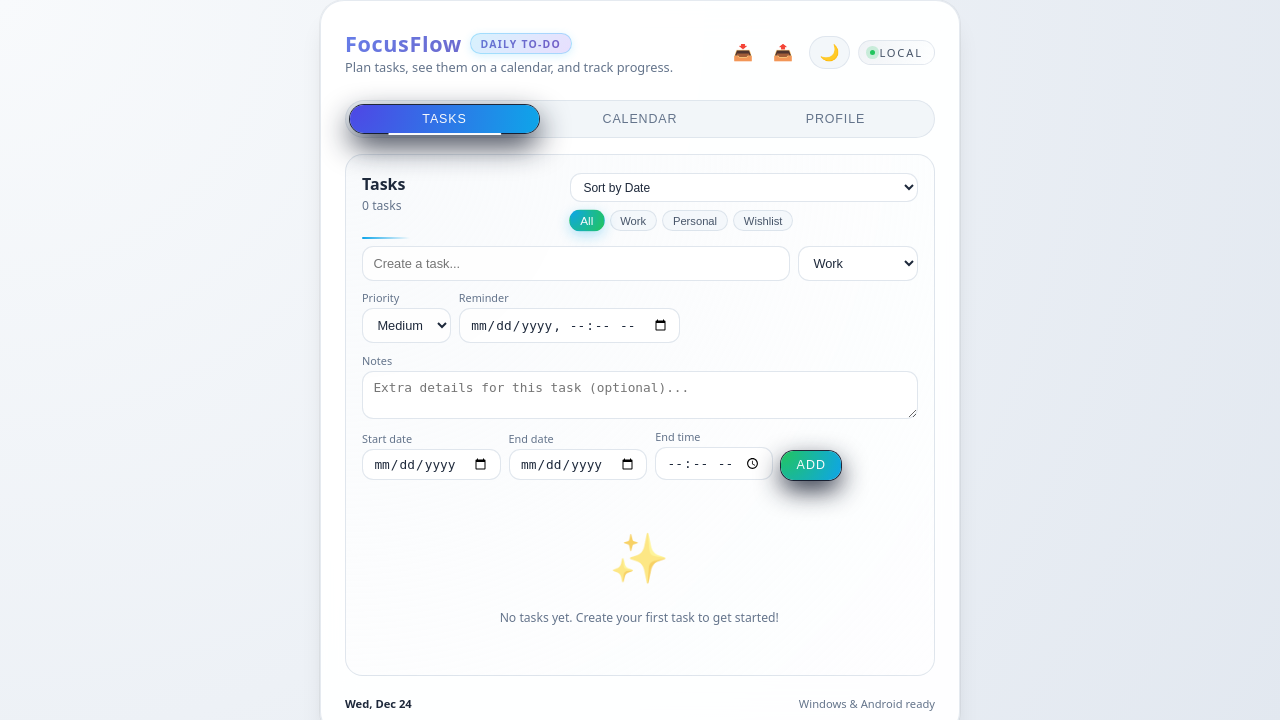
it: App › filters tasks by category
Type "Work Task" into the field with placeholder "Create a task..." at x=576, y=263, box [362,246,790,281]
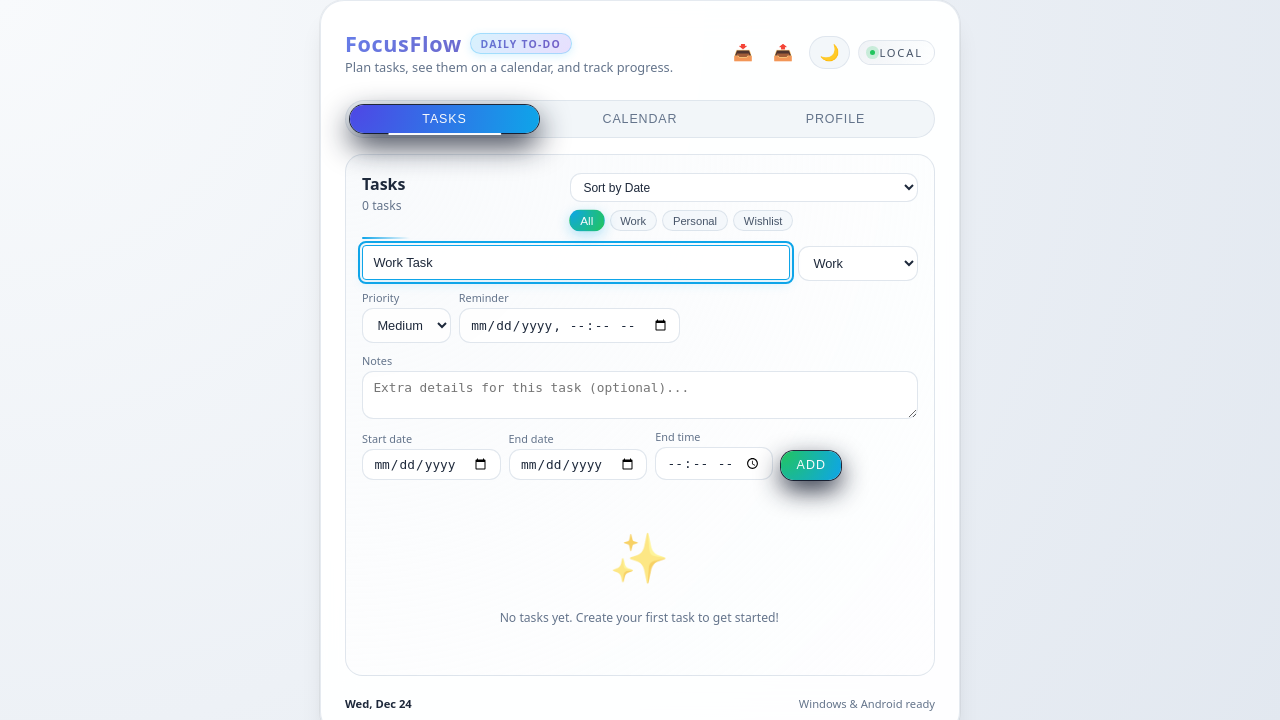
Select "Work" in the dropdown named "task category" at x=858, y=263, box [798,246,918,281]
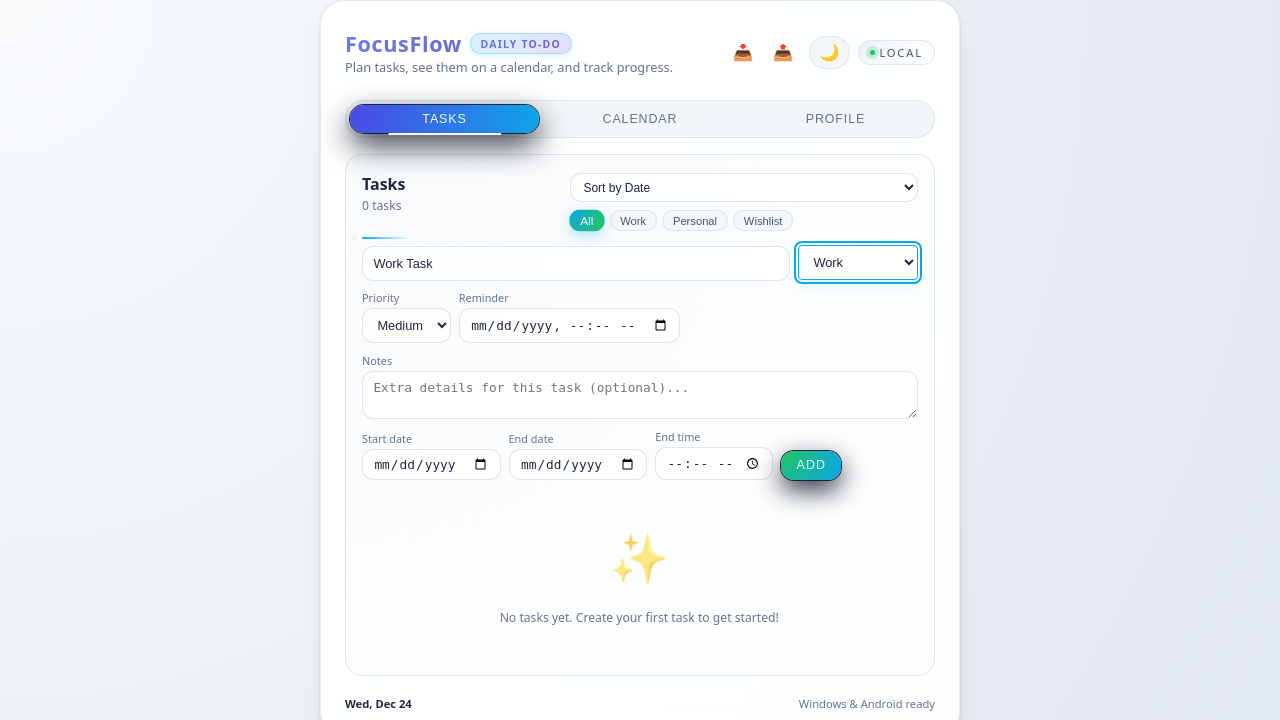
Click the button "Add" at x=811, y=465, box [781,451,841,480]
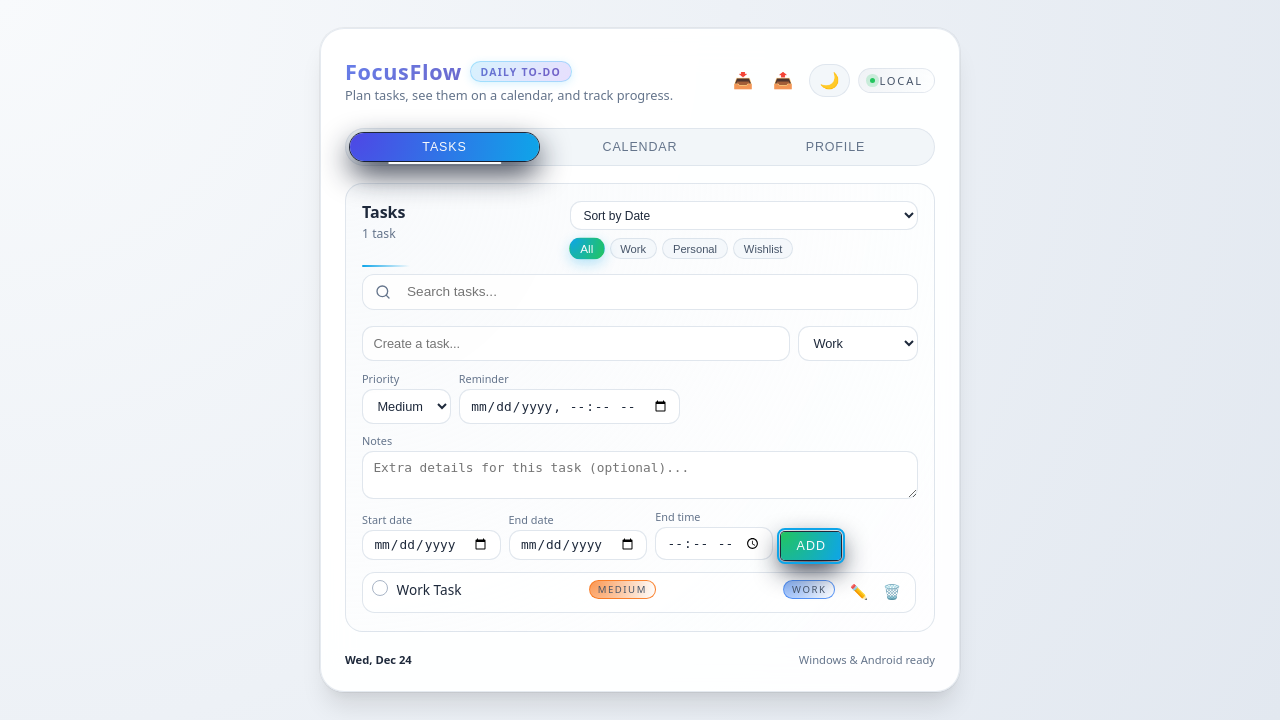
Expected: the text "Work Task" is shown, [397,580,462,599]
// Filter by personal
Click the button "Personal" at x=695, y=249, box [662,238,728,259]
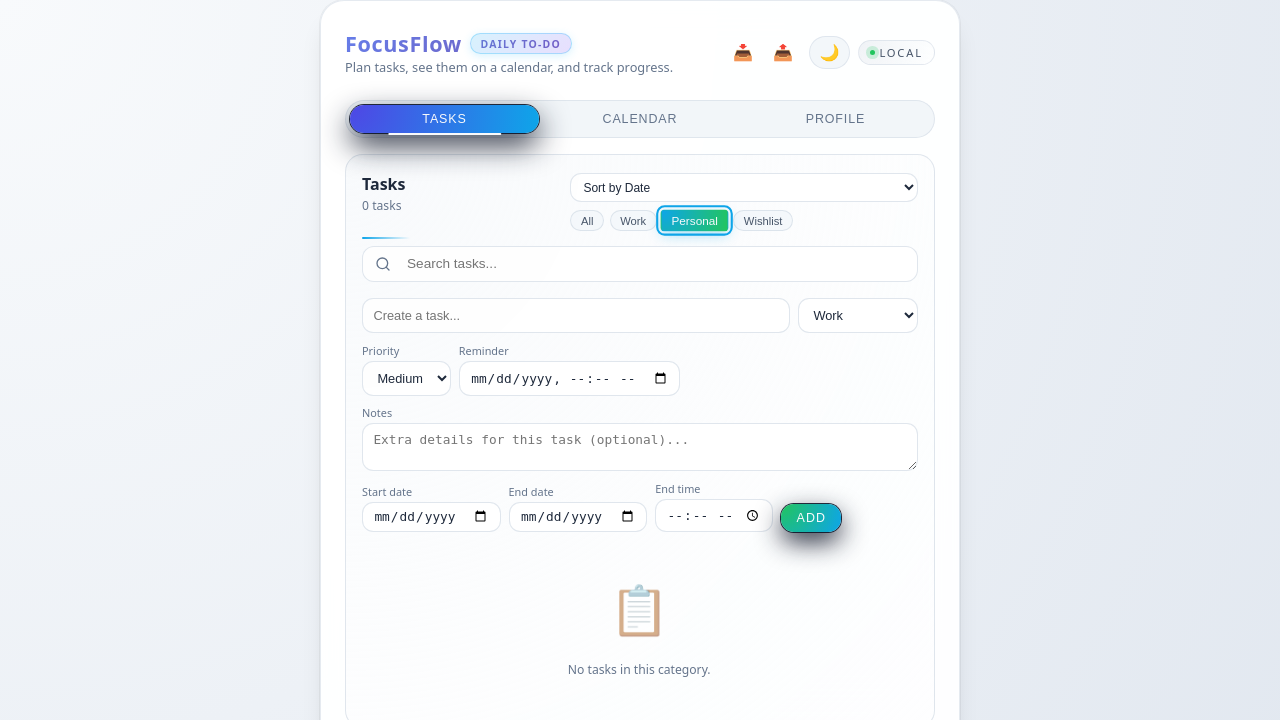
Expected: the text "Work Task" is gone
